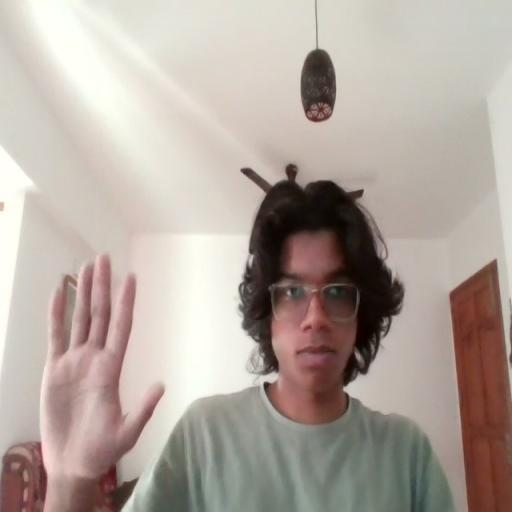Paper: (37, 254, 166, 476)
